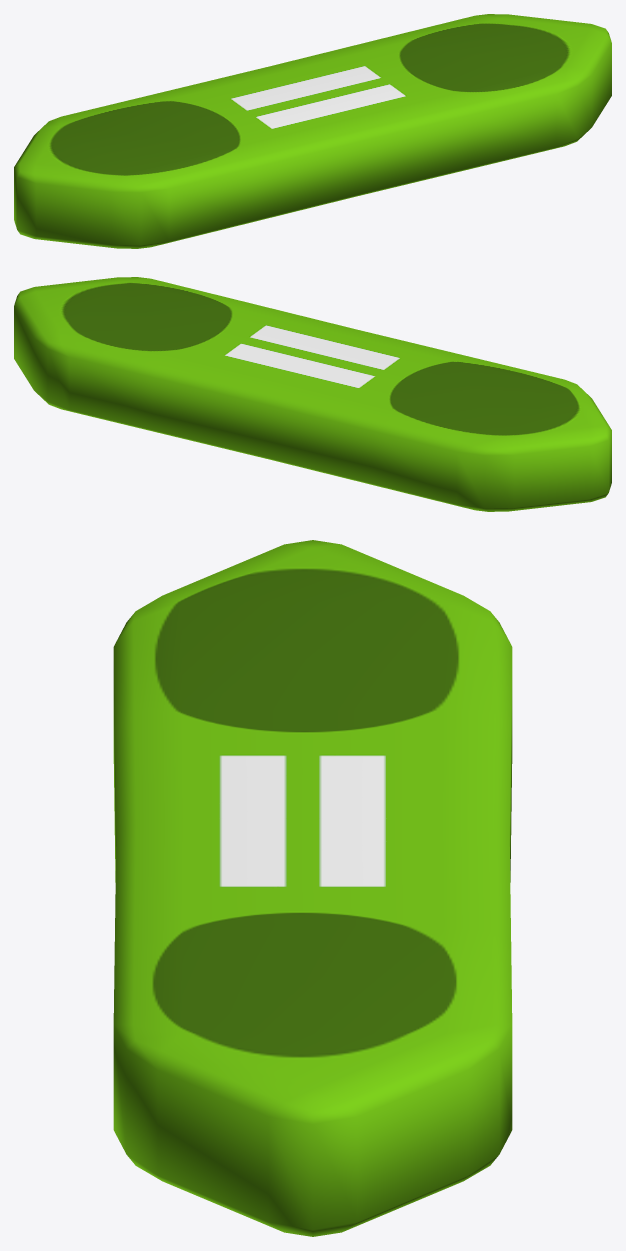
File: bloqueIgualdad.fbx
3 views of the same model, one above another, from view 1: azimuth 30°, elevation 25°; view 2: azimuth 150°, elevation 25°; view 3: azimuth 270°, elevation 25° (orthographic). The views are drawn at different scales.
Parts seen in each view (by area): view 1: Cubo; view 2: Cubo; view 3: Cubo.
Part boxes in pixels (box(x1,y1,x2,y2)): Cubo: box(14, 14, 611, 248); Cubo: box(14, 277, 611, 511); Cubo: box(113, 540, 512, 1236).
Bounding box in the file's own units: 146 × 16.57 × 42.63.
